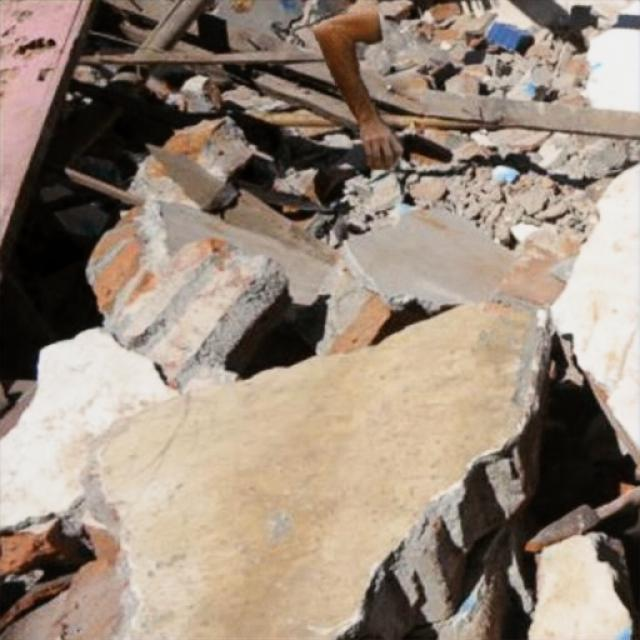Person in Rubble: (312, 9, 403, 169)
